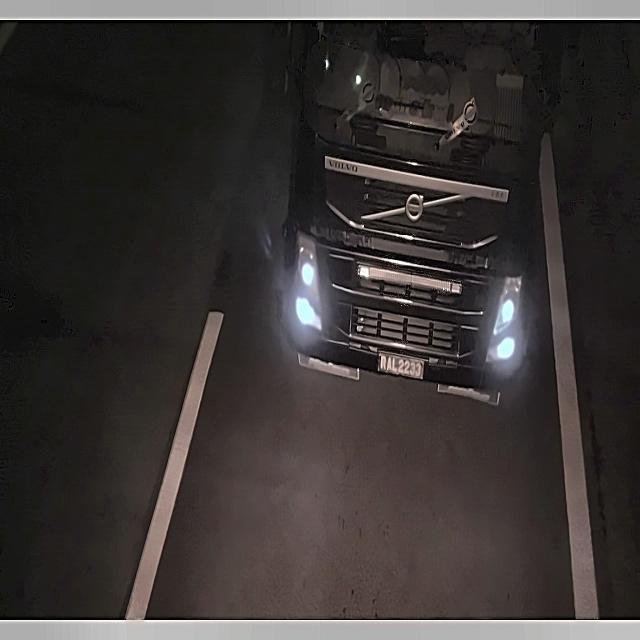car: (372, 345, 431, 390)
